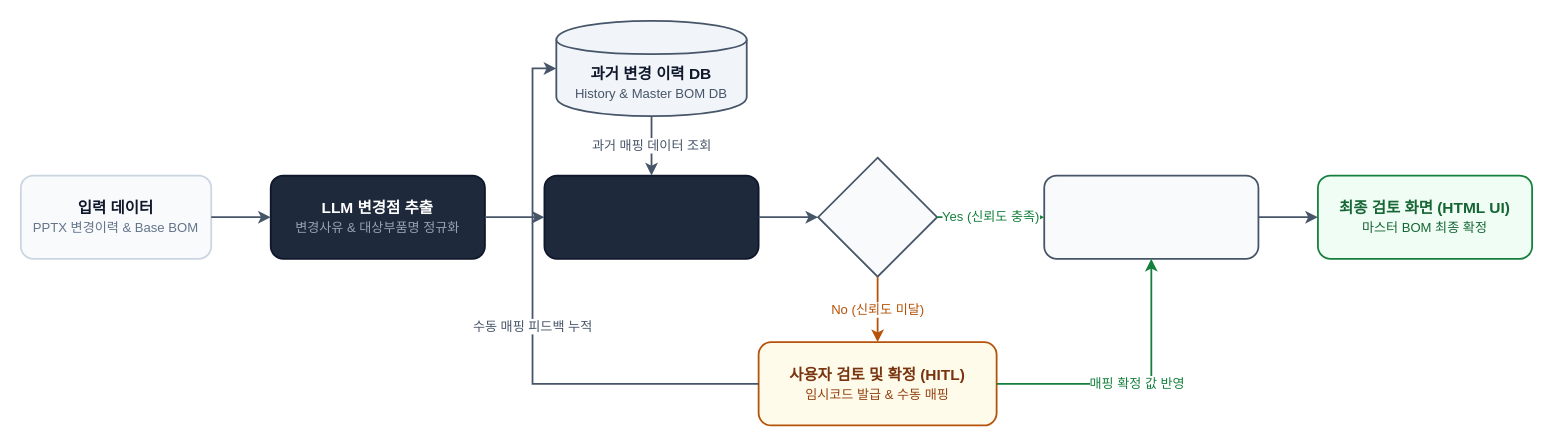
Image size: 1554x447. Some labels were removed from this diagram. The shapes that lost their labels are listed below. From the top down, each one's centre as x and y in pixels, then its label:
At (x=651, y=216): "유사도 매칭 엔진 Vector Embedding & Top-K".
At (x=877, y=216): "자동 매칭 성공?".
At (x=1151, y=216): "최종 BOM 조립/병합 Base BOM + 변경분 결합".
